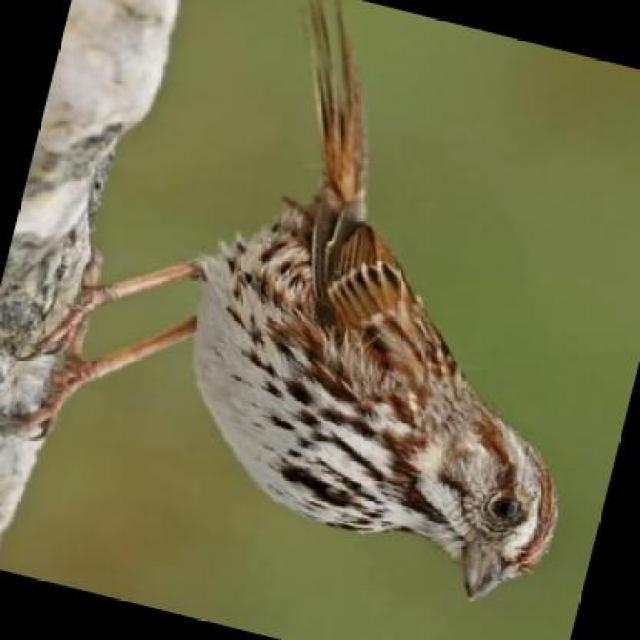Bird: (38, 14, 566, 607)
